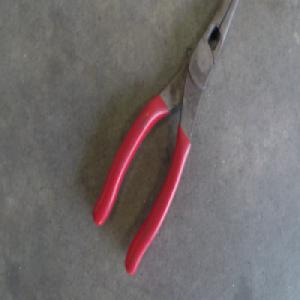Pliers: (92, 1, 251, 280)
